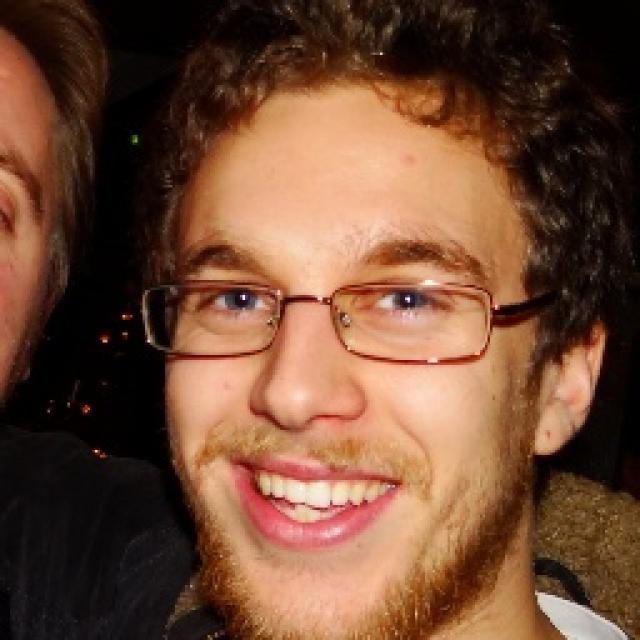earlobe: (533, 404, 576, 456)
eye: (360, 282, 451, 324), (202, 283, 274, 320)
nose: (245, 413, 356, 452)
wholeear: (532, 289, 607, 458)
